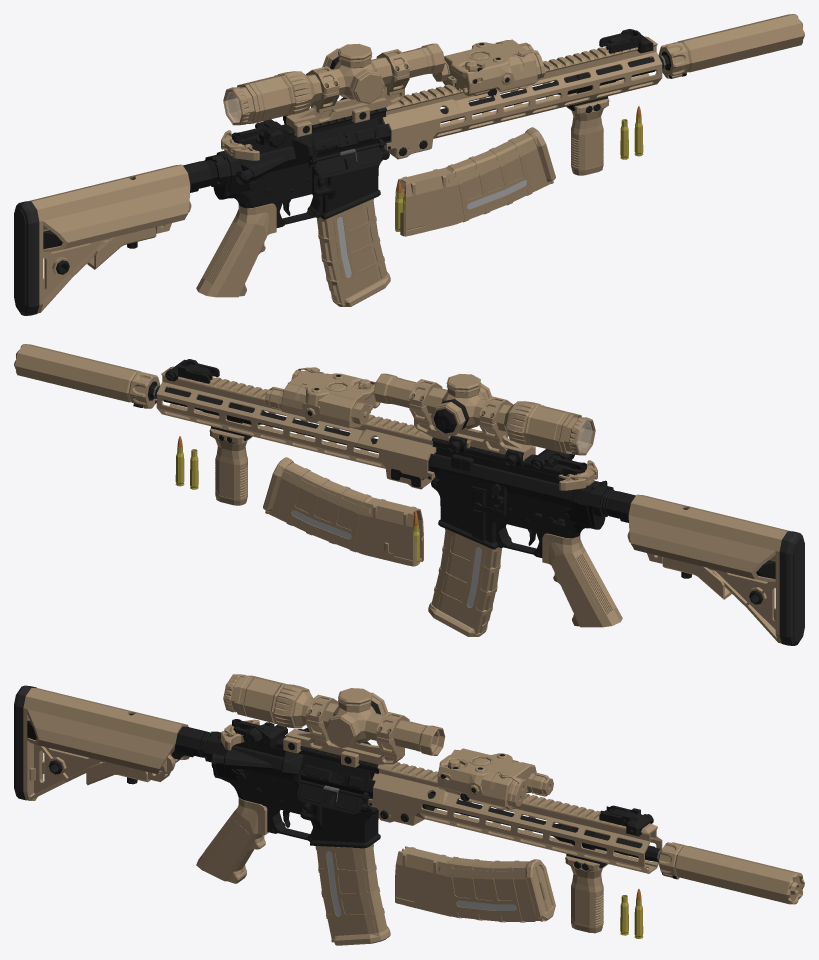
The model's file is urg-i_socom.glb.
3 renders of one model, top to bottom at view 1: azimuth 30°, elevation 25°; view 2: azimuth 150°, elevation 25°; view 3: azimuth 330°, elevation 25°, orthographic.
Visible parts, largest first — view 1: urgi stock_16, urgi handguard_15, vortexc razor 1-6x24_20, 55645 ar15 30rnd mag (pmag)_13, urgi lower receiver_0, 55645 ar15 30rnd mag empty (pmag)_14, surefire socom rc2_22, anpeq15_21, urgi upper receiver_11, urgi pistol grip_8, magpul rvg_23, urgi dust cover_7 (+5 smaller); view 2: urgi stock_16, vortexc razor 1-6x24_20, urgi handguard_15, 55645 ar15 30rnd mag (pmag)_13, urgi lower receiver_0, 55645 ar15 30rnd mag empty (pmag)_14, urgi upper receiver_11, surefire socom rc2_22, anpeq15_21, urgi pistol grip_8, magpul rvg_23, urgi 14.5in barrel_12 (+3 smaller); view 3: urgi stock_16, urgi handguard_15, vortexc razor 1-6x24_20, 55645 ar15 30rnd mag (pmag)_13, urgi lower receiver_0, 55645 ar15 30rnd mag empty (pmag)_14, surefire socom rc2_22, anpeq15_21, urgi upper receiver_11, urgi pistol grip_8, magpul rvg_23, urgi 14.5in barrel_12 (+4 smaller).
Boxes of the visible parts, x1=… form: urgi stock_16: x1=14, y1=164, x2=191, y2=315; urgi handguard_15: x1=382, y1=36, x2=662, y2=159; vortexc razor 1-6x24_20: x1=223, y1=43, x2=445, y2=137; 55645 ar15 30rnd mag (pmag)_13: x1=395, y1=127, x2=555, y2=236; urgi lower receiver_0: x1=131, y1=148, x2=389, y2=227; 55645 ar15 30rnd mag empty (pmag)_14: x1=317, y1=198, x2=390, y2=306; surefire socom rc2_22: x1=658, y1=14, x2=804, y2=78; anpeq15_21: x1=432, y1=39, x2=545, y2=96; urgi upper receiver_11: x1=233, y1=107, x2=390, y2=185; urgi pistol grip_8: x1=196, y1=203, x2=276, y2=297; magpul rvg_23: x1=566, y1=96, x2=609, y2=175; urgi dust cover_7: x1=309, y1=140, x2=390, y2=177; urgi stock_16: x1=627, y1=494, x2=804, y2=645; vortexc razor 1-6x24_20: x1=373, y1=373, x2=595, y2=467; urgi handguard_15: x1=156, y1=366, x2=436, y2=489; 55645 ar15 30rnd mag (pmag)_13: x1=263, y1=457, x2=423, y2=566; urgi lower receiver_0: x1=431, y1=478, x2=687, y2=557; 55645 ar15 30rnd mag empty (pmag)_14: x1=428, y1=528, x2=501, y2=636; urgi upper receiver_11: x1=428, y1=437, x2=607, y2=510; surefire socom rc2_22: x1=14, y1=344, x2=160, y2=408; anpeq15_21: x1=265, y1=367, x2=380, y2=428; urgi pistol grip_8: x1=542, y1=533, x2=622, y2=627; magpul rvg_23: x1=209, y1=426, x2=252, y2=505; urgi 14.5in barrel_12: x1=149, y1=385, x2=429, y2=470; urgi stock_16: x1=14, y1=685, x2=189, y2=800; urgi handguard_15: x1=368, y1=762, x2=662, y2=873; vortexc razor 1-6x24_20: x1=223, y1=674, x2=445, y2=767; 55645 ar15 30rnd mag (pmag)_13: x1=395, y1=846, x2=555, y2=922; urgi lower receiver_0: x1=129, y1=713, x2=380, y2=848; 55645 ar15 30rnd mag empty (pmag)_14: x1=315, y1=844, x2=390, y2=945; surefire socom rc2_22: x1=658, y1=842, x2=804, y2=904; anpeq15_21: x1=437, y1=748, x2=553, y2=809; urgi upper receiver_11: x1=211, y1=727, x2=378, y2=802; urgi pistol grip_8: x1=196, y1=798, x2=268, y2=883; magpul rvg_23: x1=565, y1=854, x2=608, y2=933; urgi 14.5in barrel_12: x1=422, y1=791, x2=661, y2=862.
Bounding box in the file's own units: 9.62 × 2.96 × 0.8111.
